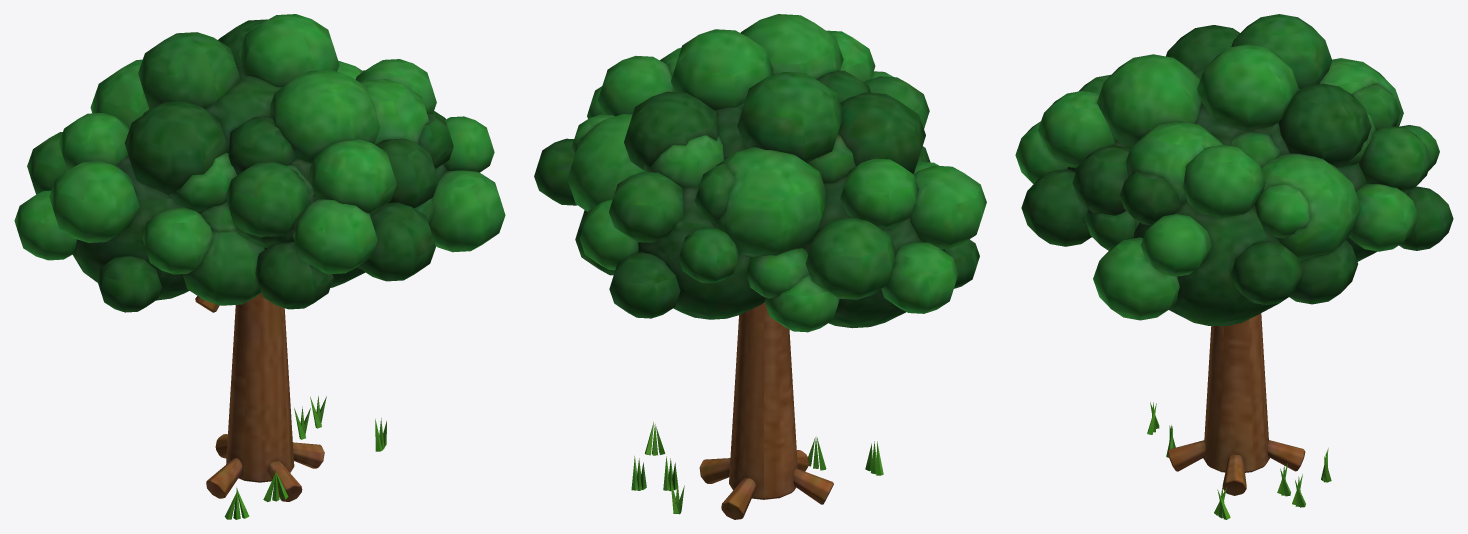
The model's file is longan_tree.glb.
3 views of the same model, side by side, from view 1: azimuth 30°, elevation 25°; view 2: azimuth 150°, elevation 25°; view 3: azimuth 270°, elevation 25° (orthographic). The views are drawn at different scales.
Parts seen in each view (by area): view 1: crown, longan_tree; view 2: crown, longan_tree; view 3: crown, longan_tree.
Boxes of the visible parts, x1,y1,x2,y2 form: crown: [14, 14, 505, 312]; longan_tree: [195, 293, 386, 519]; crown: [534, 14, 986, 332]; longan_tree: [631, 302, 883, 519]; crown: [1015, 14, 1453, 325]; longan_tree: [1147, 313, 1331, 519].
Size of the model in its own units: 1.27 by 1.3 by 1.17.
Materials: 1 (1 with a texture image).
